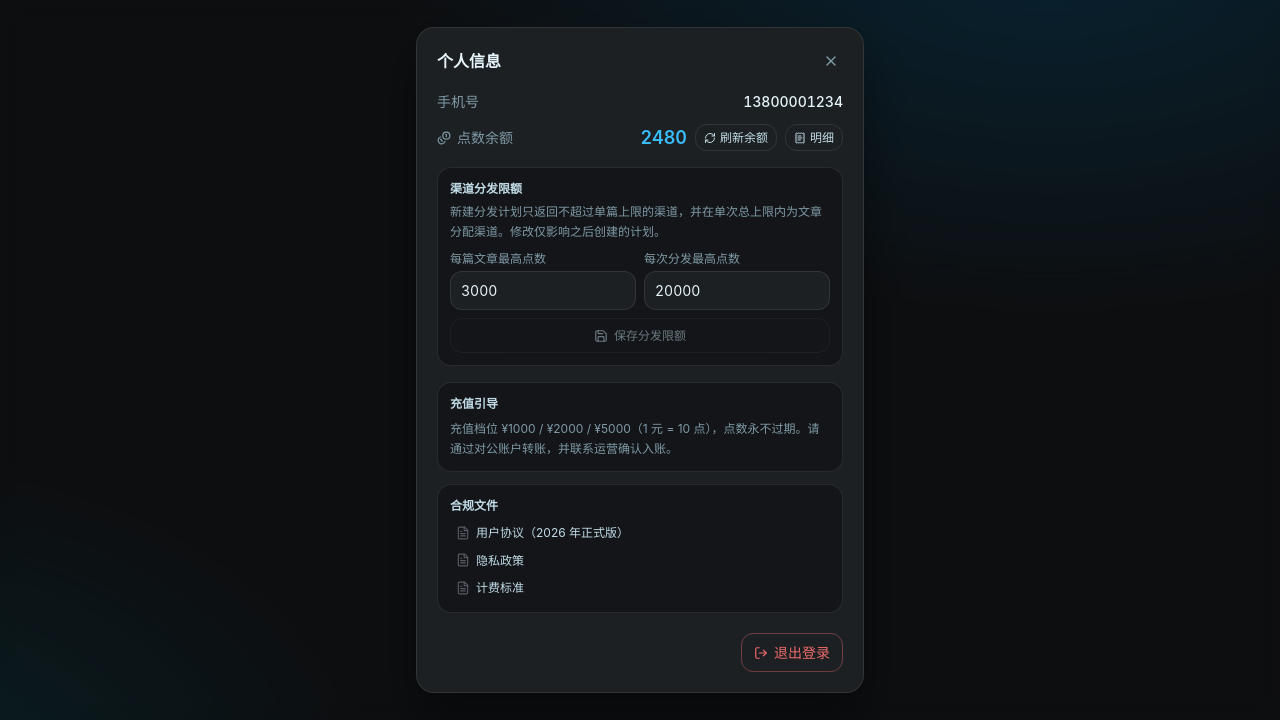
it: 个人信息弹窗的点数明细 › 空流水显示占位文案
The image size is (1280, 720).
Click the button "明细": [814, 138] box [785, 124, 843, 151]
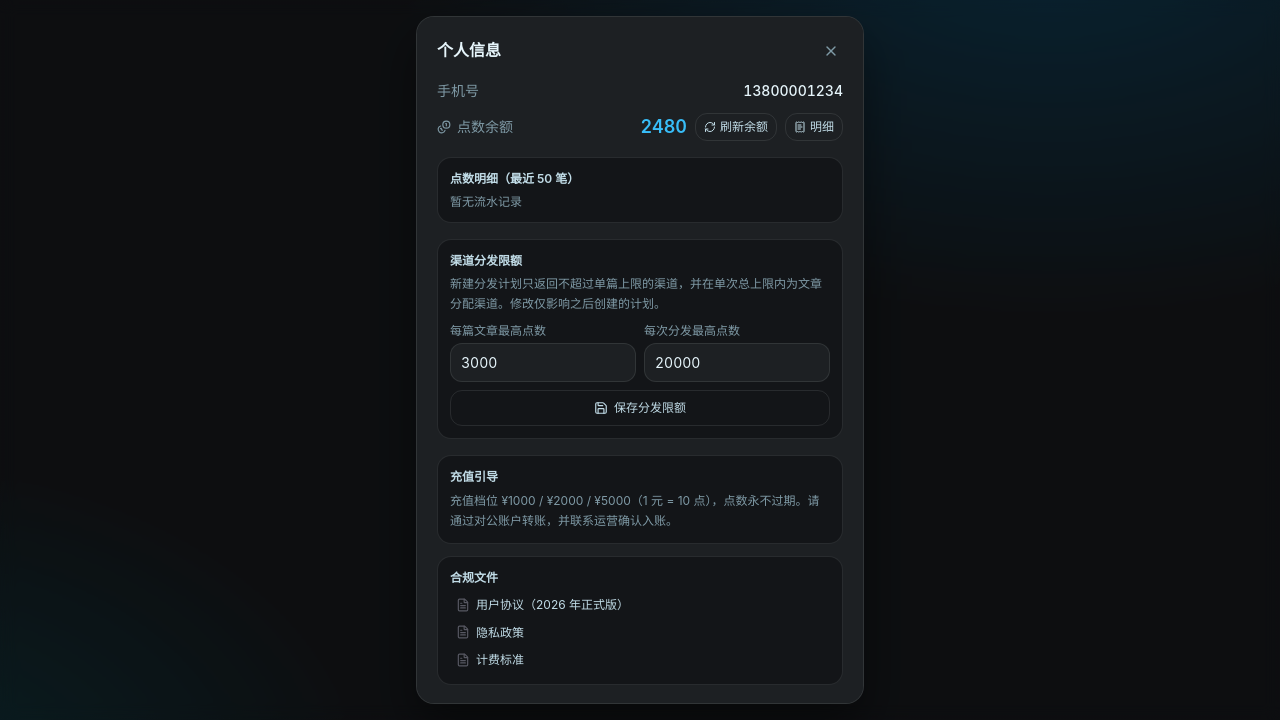
Result: the text "暂无流水记录" is shown at [450, 194, 522, 209]
